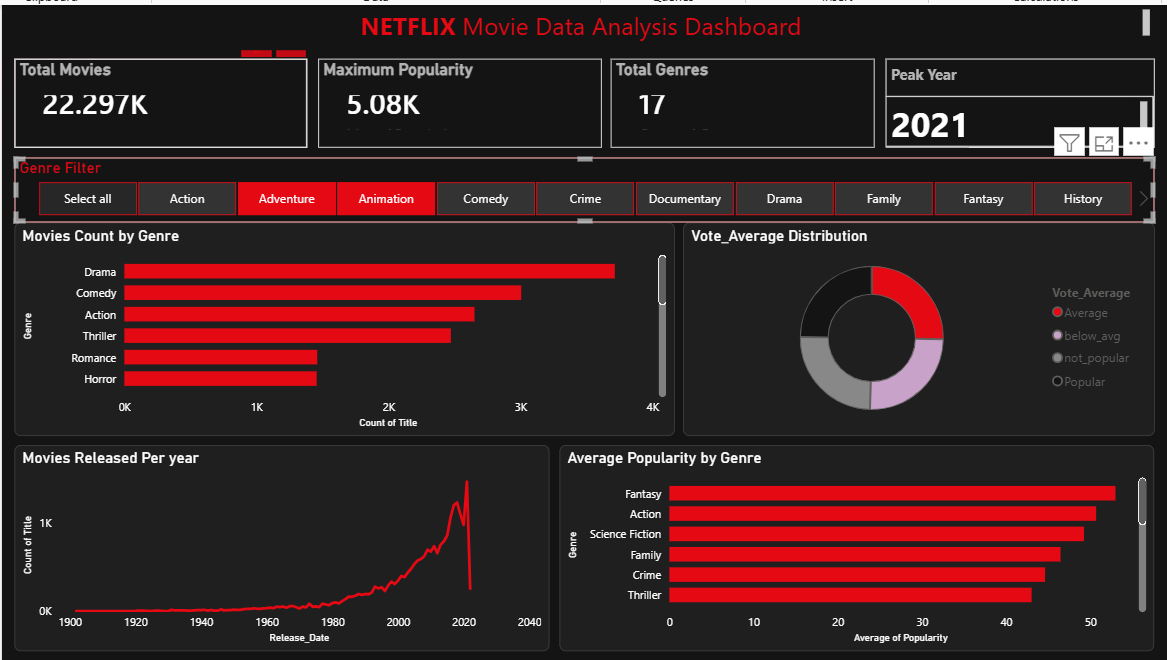

The dashboard page shown, as its layout file describes it:
{"tool":"powerbi","page":{"name":"Page 1","canvas":[1280,720],"ordinal":0},"visuals":[{"type":"shape","box":[13.7,59,321.1,97.4],"z":0},{"type":"clusteredBarChart","title":"Movies Count by Genre","fields":{"Category":["netflix_cleaned.Genre"],"Y":["CountNonNull(netflix_cleaned.Title)"]},"box":[13.7,238.8,724.5,234.6],"z":1000},{"type":"donutChart","title":" Vote_Average Distribution","fields":{"Category":["netflix_cleaned.Vote_Average"],"Y":["CountNonNull(netflix_cleaned.Title)"]},"box":[747.9,238.8,517.3,234.6],"z":2000},{"type":"lineChart","title":"Movies Released Per year","fields":{"Category":["netflix_cleaned.Release_Date"],"Y":["CountNonNull(netflix_cleaned.Title)"]},"box":[13.7,483,587.3,226.4],"z":3000},{"type":"clusteredBarChart","title":"Average Popularity by Genre","fields":{"Y":["Avg(netflix_cleaned.Popularity)"],"Category":["netflix_cleaned.Genre"]},"box":[612,483,653.2,226.4],"z":4000},{"type":"cardVisual","title":"Total Movies","fields":{"Data":["CountNonNull(netflix_cleaned.Title)"]},"box":[13.7,59,321.1,97.4],"z":5000},{"type":"cardVisual","title":"Maximum Popularity","fields":{"Data":["Max(netflix_cleaned.Popularity)"]},"box":[347.2,59,311.5,97.4],"z":6000},{"type":"cardVisual","title":"Total Genres","fields":{"Data":["Count(netflix_cleaned.Genre)"]},"box":[668.3,59,289.5,97.4],"z":7000},{"type":"cardVisual","box":[970.2,59,295,97.4],"z":8000},{"type":"slicer","title":"Genre Filter","fields":{"Values":["netflix_cleaned.Genre"]},"box":[13.7,167.4,1251.5,71.4],"z":9000},{"type":"textbox","box":[13.7,0,1251.5,49.4],"z":10000},{"type":"textbox","box":[983.5,91.2,269.4,52.7],"z":11000},{"type":"textbox","box":[970.7,58.4,295.1,41.3],"z":12000},{"type":"textbox","box":[970.7,99.8,293.6,55.6],"z":13000}]}

Visuals, with their boxes on the page's 1280x720 design canvas (x1, y1, x2, y2). These are canvas units, not pixel positions in the 1167x660 screenshot, which may show the page scaled, cropped or inside an application window:
shape: region(14, 59, 335, 156)
"Movies Count by Genre" clusteredBarChart: region(14, 239, 738, 473)
" Vote_Average Distribution" donutChart: region(748, 239, 1265, 473)
"Movies Released Per year" lineChart: region(14, 483, 601, 709)
"Average Popularity by Genre" clusteredBarChart: region(612, 483, 1265, 709)
"Total Movies" cardVisual: region(14, 59, 335, 156)
"Maximum Popularity" cardVisual: region(347, 59, 659, 156)
"Total Genres" cardVisual: region(668, 59, 958, 156)
cardVisual: region(970, 59, 1265, 156)
"Genre Filter" slicer: region(14, 167, 1265, 239)
textbox: region(14, 0, 1265, 49)
textbox: region(984, 91, 1253, 144)
textbox: region(971, 58, 1266, 100)
textbox: region(971, 100, 1264, 155)
